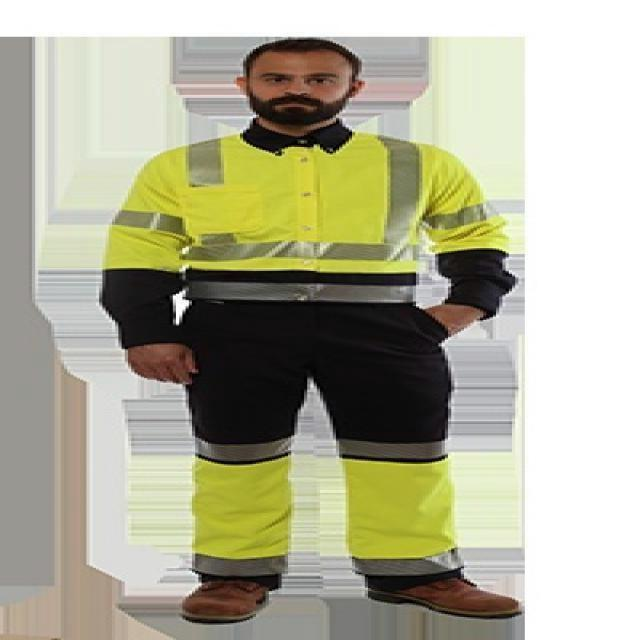10: (92, 38, 520, 632)
11: (88, 121, 458, 283)
7: (114, 310, 201, 404)
8: (236, 20, 384, 158)
helmet_white: (342, 548, 523, 629), (164, 534, 300, 630)
